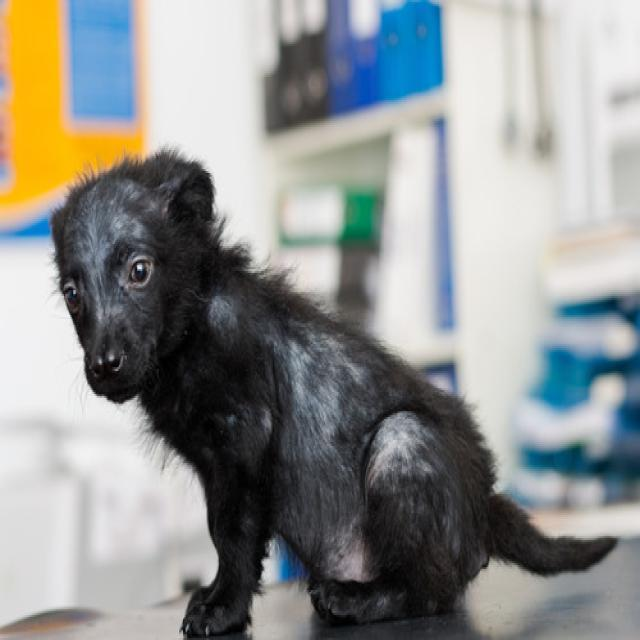mange: (207, 276, 463, 587), (65, 174, 170, 337)
